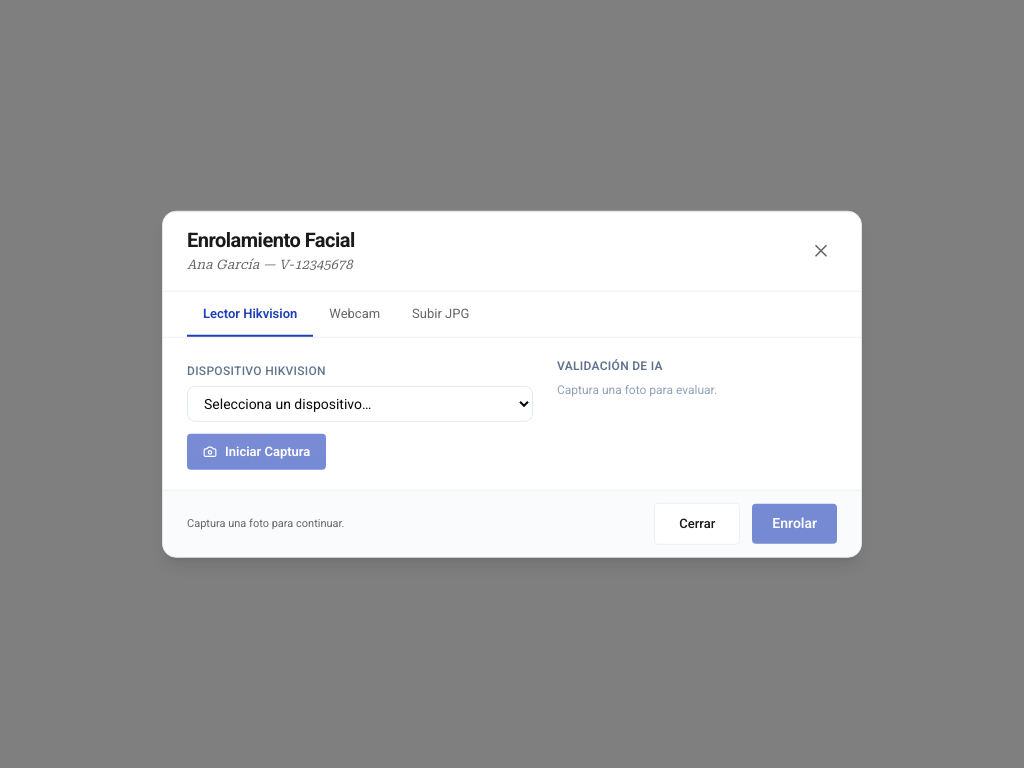
it: EnrollmentModal › switches between Lector Hikvision / Webcam / Subir JPG tabs
The image size is (1024, 768).
Click Webcam tab
Click the button "Webcam" at x=355, y=314, box [313, 291, 396, 337]
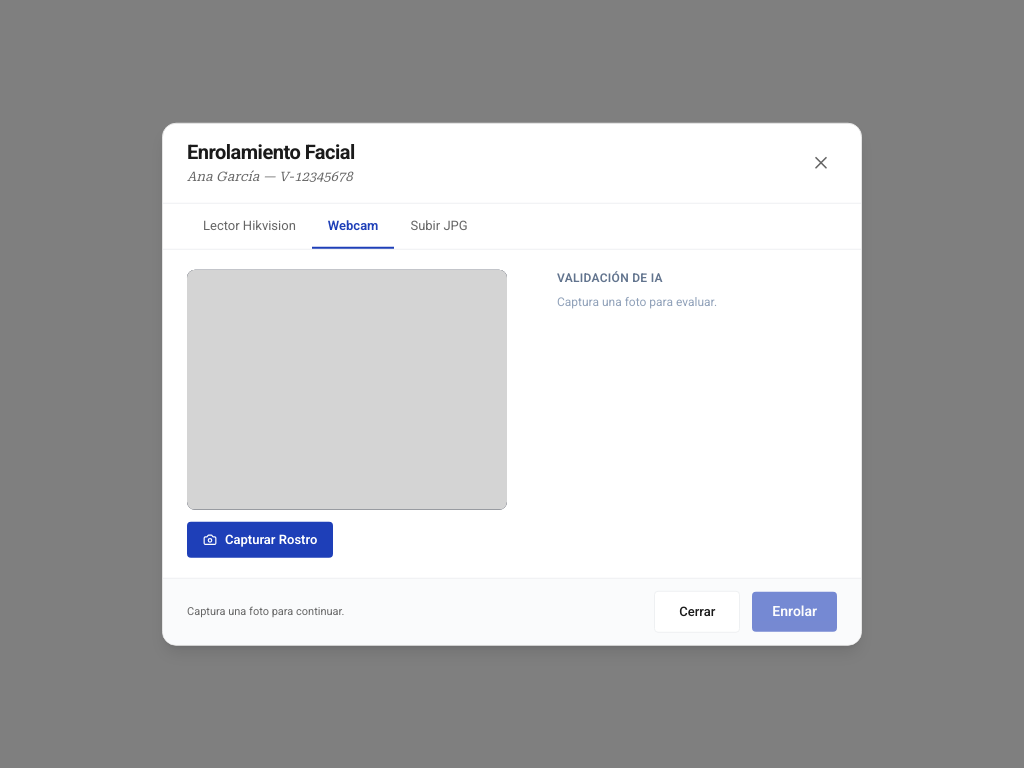
Click Subir JPG tab
Click the button "Subir JPG" at x=439, y=226, box [394, 203, 484, 249]
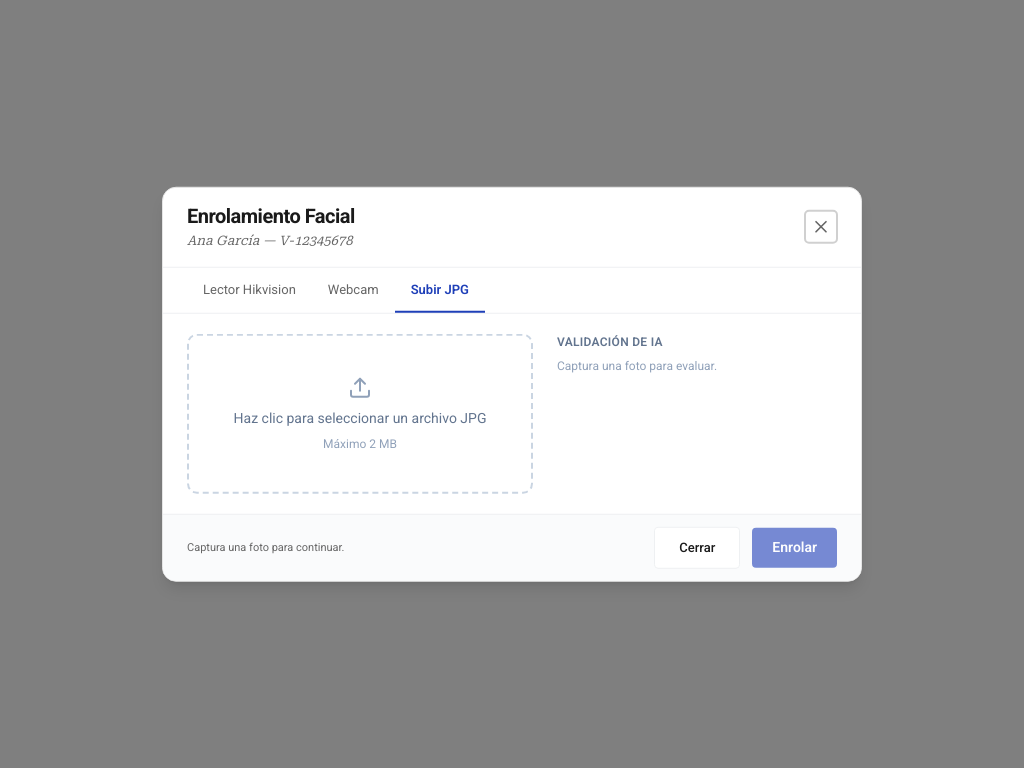
Expected: the text "Haz clic para seleccionar un archivo JPG" is shown, [234, 408, 486, 428]
